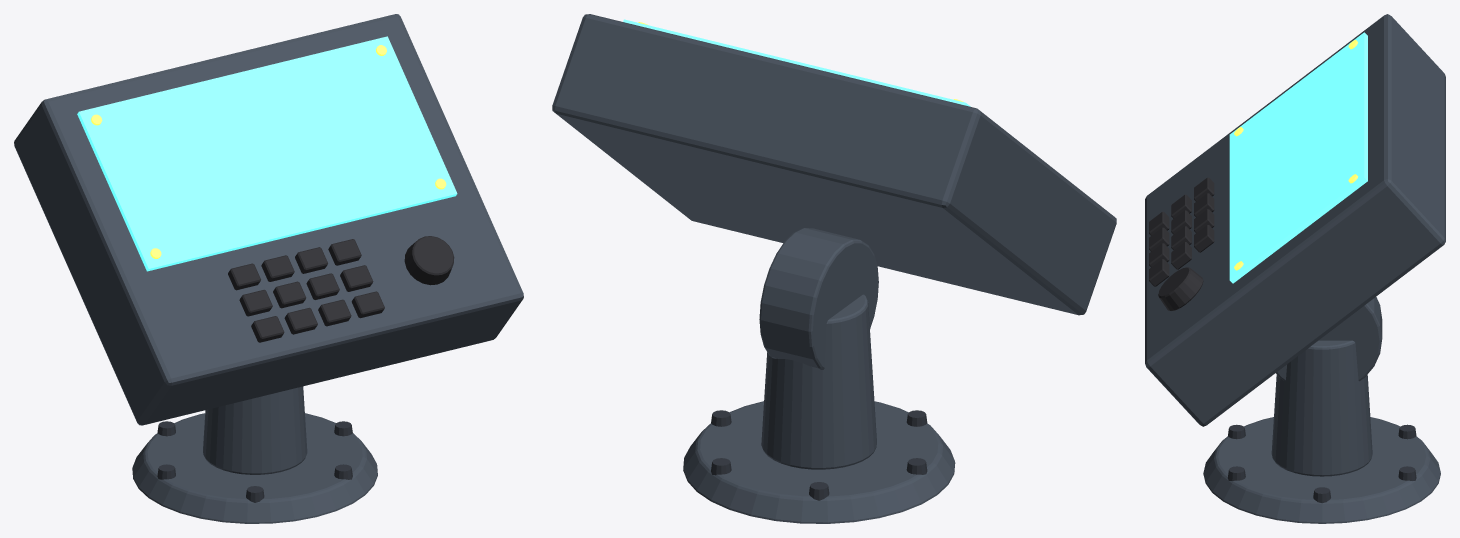
File: cantina_09_bartender_terminal.glb
3 views of the same model, side by side, from view 1: azimuth 30°, elevation 25°; view 2: azimuth 150°, elevation 25°; view 3: azimuth 270°, elevation 25° (orthographic). The views are drawn at different scales.
Visible parts, largest first — view 1: Terminal_Casing, Terminal_Display_Screen, Terminal_Swivel_Base, Terminal_Keypad_Controls, Terminal_Base_Bolts; view 2: Terminal_Casing, Terminal_Swivel_Base, Terminal_Base_Bolts, Terminal_Display_Screen; view 3: Terminal_Casing, Terminal_Swivel_Base, Terminal_Display_Screen, Terminal_Keypad_Controls, Terminal_Base_Bolts.
Boxes of the visible parts, x1,y1,x2,y2 form: Terminal_Casing: (14, 14, 523, 425); Terminal_Display_Screen: (77, 36, 457, 271); Terminal_Swivel_Base: (132, 386, 377, 523); Terminal_Keypad_Controls: (228, 236, 454, 342); Terminal_Base_Bolts: (157, 421, 352, 502); Terminal_Casing: (552, 14, 1116, 315); Terminal_Swivel_Base: (683, 228, 955, 523); Terminal_Base_Bolts: (711, 410, 927, 500); Terminal_Display_Screen: (623, 19, 970, 106); Terminal_Casing: (1145, 14, 1445, 426); Terminal_Swivel_Base: (1203, 297, 1440, 523); Terminal_Display_Screen: (1229, 32, 1367, 283); Terminal_Keypad_Controls: (1149, 177, 1214, 310); Terminal_Base_Bolts: (1228, 424, 1416, 503).
Bounding box in the file's own units: 0.3 × 0.3123 × 0.2255.
